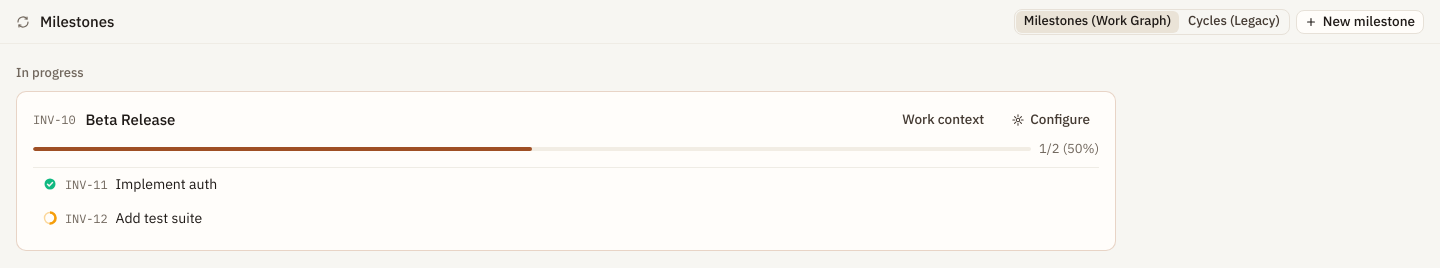
Test: CyclesPage › switches to Legacy Cycles tab when clicked
The image size is (1440, 268).
Click the button "Cycles (Legacy)" at (1234, 22), box [1180,10,1288,32]
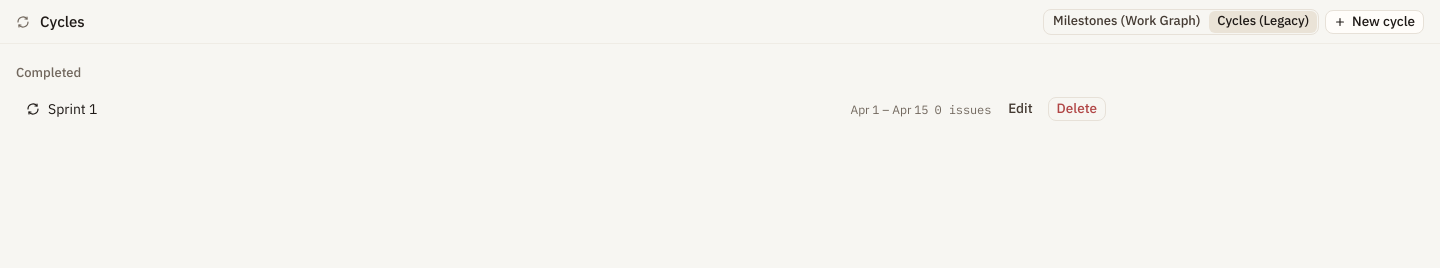
Now the text "Sprint 1" is shown, box [48,99,98,119]
